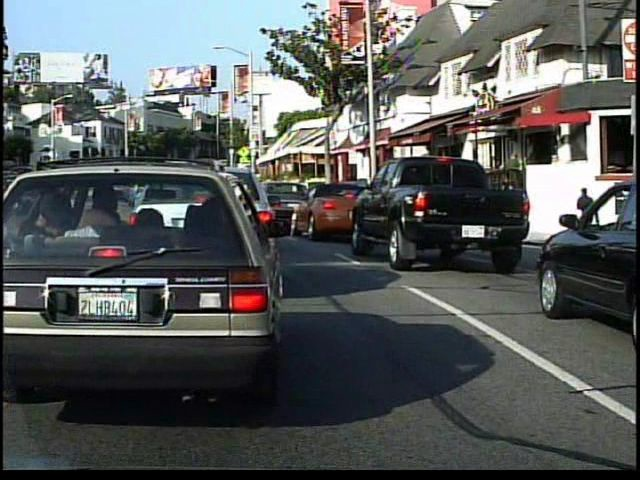person: (498, 149, 523, 201)
